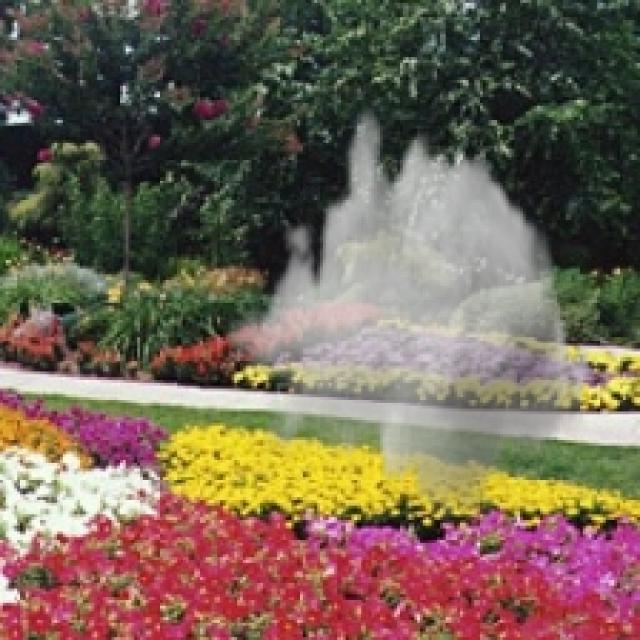smoke: (229, 103, 597, 528)
